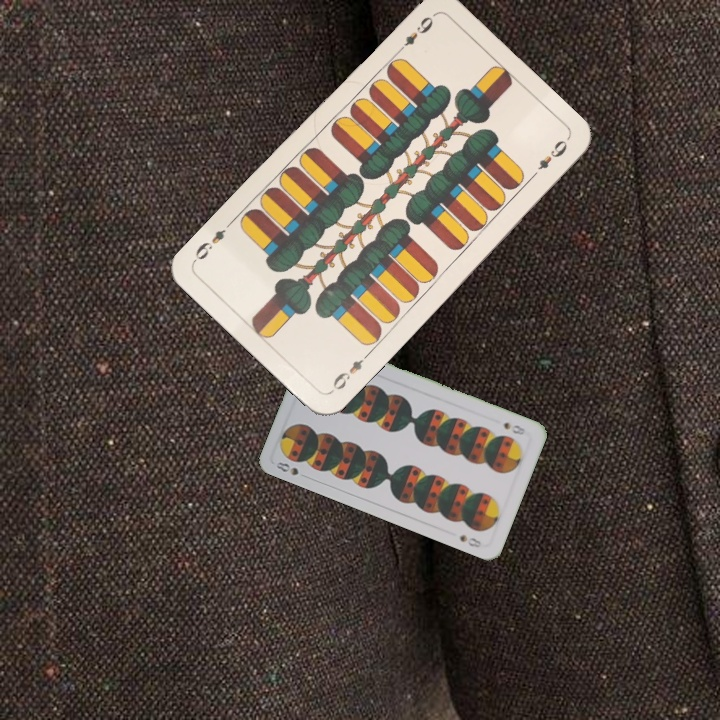E9: (326, 349, 372, 395), (392, 10, 437, 57)
S8: (271, 458, 311, 481), (500, 418, 528, 438)
